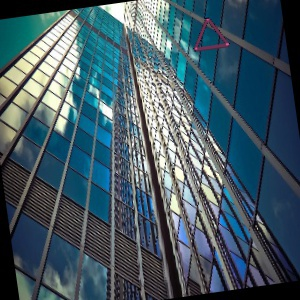triangle: (191, 14, 232, 54)
